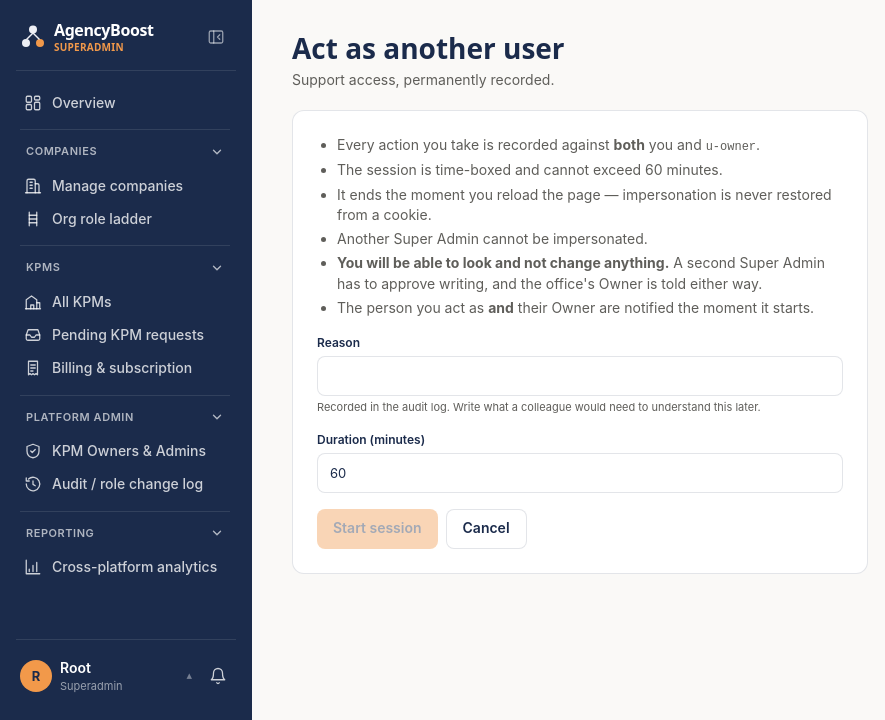
Test case: start impersonation › leaves the Super Admin as themselves when the API refuses
In the field labelled "Reason": (580,376) [317, 356, 843, 396], type "support ticket 42"
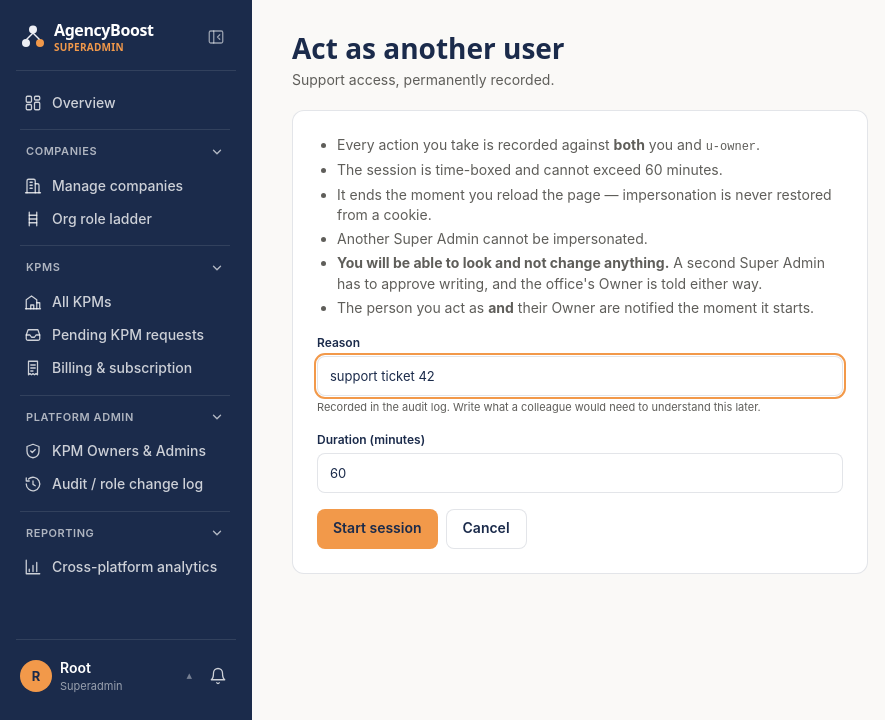
Click the button "Start session": (377,528) [317, 508, 438, 548]
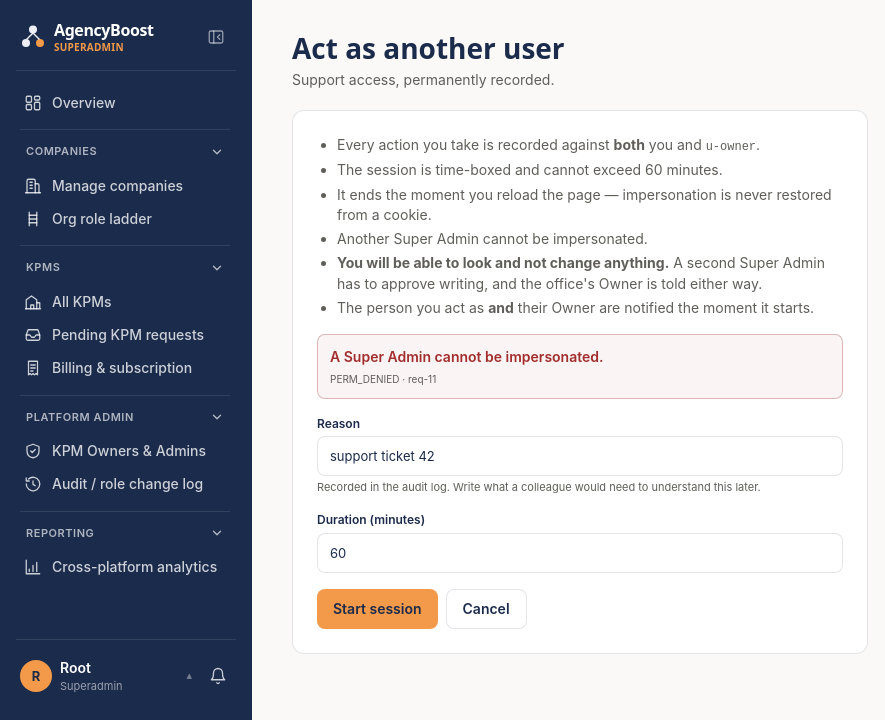
Result: the message shows "cannot be impersonated" at [330, 348, 604, 365]
